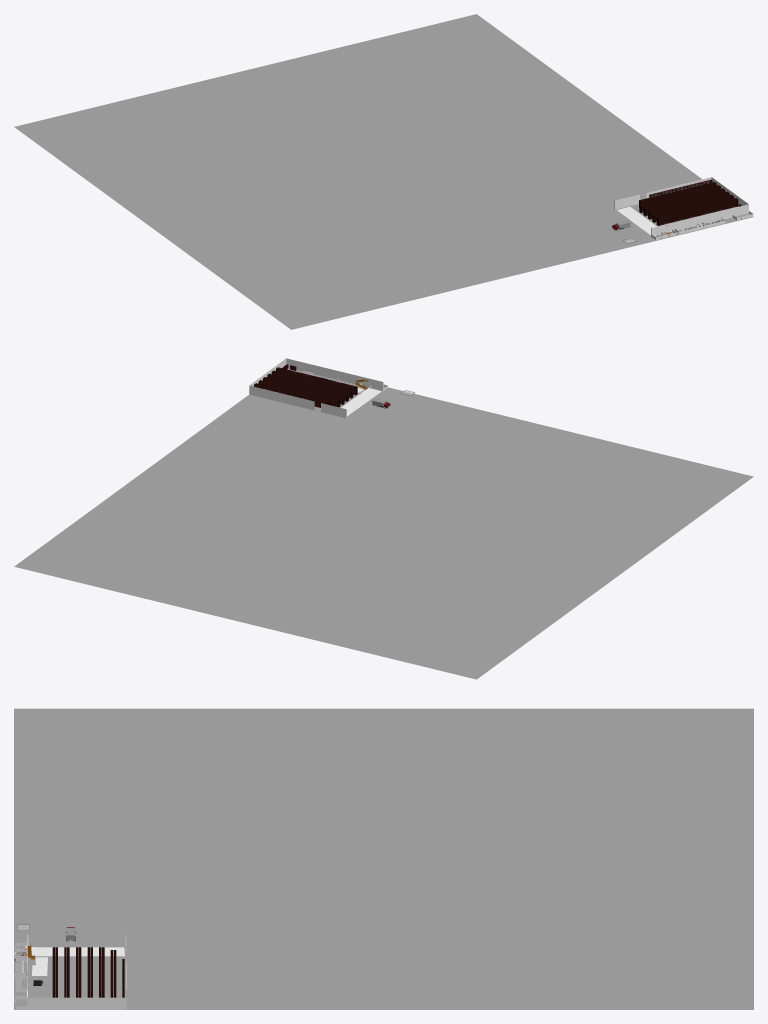
The model's file is GalpãoTopCestasC2.obj.
The picture shows the model from 3 angles, top to bottom: view 1: azimuth 30°, elevation 25°; view 2: azimuth 150°, elevation 25°; view 3: azimuth 270°, elevation 25°; orthographic projection. The views are drawn at different scales.
Parts seen in each view (by area): view 1: ground_1, wall_11_65; view 2: ground_1, wall_11_64, wall_3_16; view 3: ground_1, wall_17_100, room_40_231.
Part boxes in pixels (x1,y1,x2,y2): ground_1: [14, 14, 753, 329]; wall_11_65: [651, 204, 748, 235]; ground_1: [14, 368, 753, 679]; wall_11_64: [286, 358, 382, 390]; wall_3_16: [249, 385, 314, 410]; ground_1: [14, 708, 753, 1009]; wall_17_100: [27, 997, 126, 1009]; room_40_231: [31, 947, 124, 956].
Size of the model in its own units: 111311 by 2100 by 115549.
